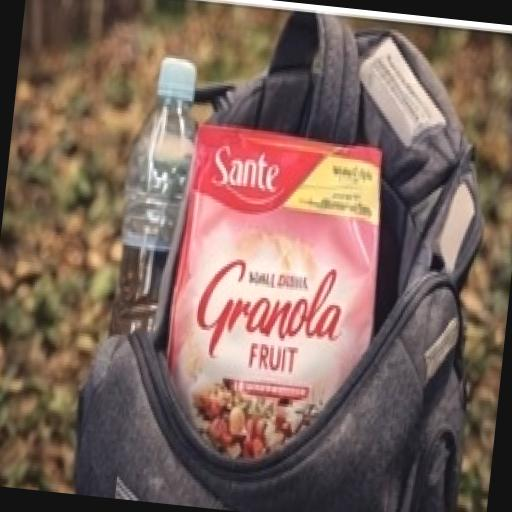granola: (115, 84, 424, 510)
